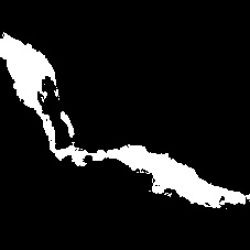crack: (2, 32, 248, 208)
